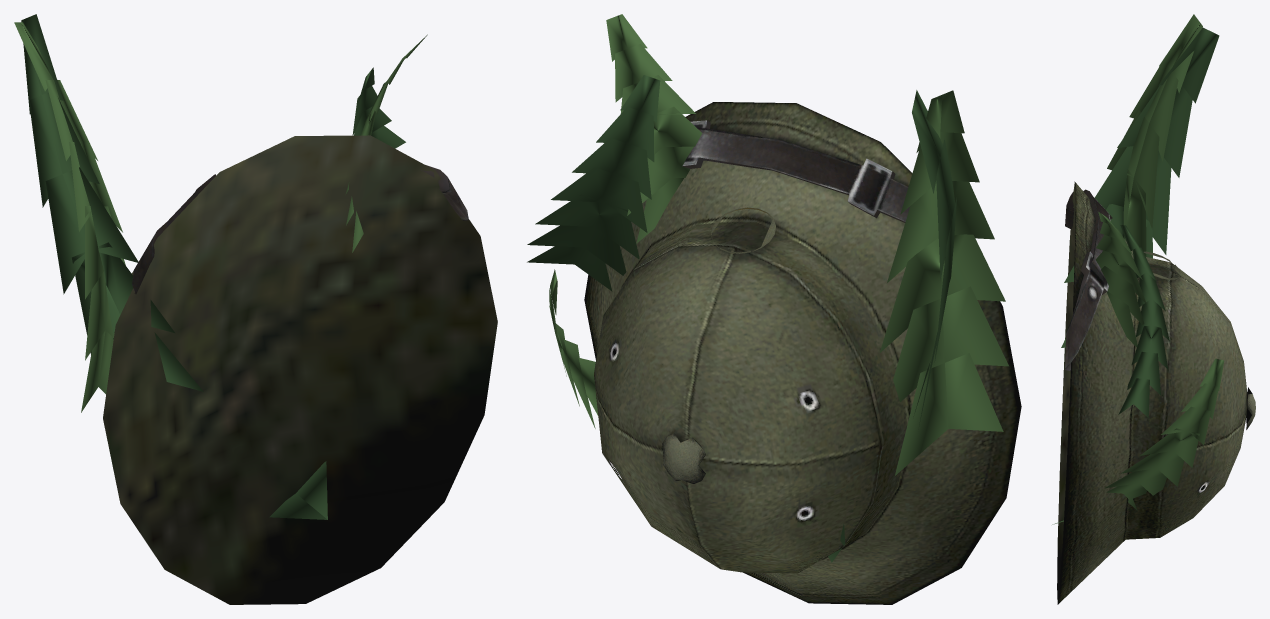
File: pith_foliage.glb
3 renders of one model, left to right at view 1: azimuth 30°, elevation 25°; view 2: azimuth 150°, elevation 25°; view 3: azimuth 270°, elevation 25°, orthographic. The views are drawn at different scales.
Visible parts, largest first — view 1: pith_foliage, pith_foliage_sprig_3, pith_foliage_sprig_2, pith_foliage_sprig_5, pith_foliage_sprig_4, pith_foliage_sprig_1; view 2: pith_foliage, pith_foliage_sprig_2, pith_foliage_sprig_4, pith_foliage_sprig_1, pith_foliage_sprig_3, pith_foliage_sprig_0; view 3: pith_foliage, pith_foliage_sprig_3, pith_foliage_sprig_2, pith_foliage_sprig_0, pith_foliage_sprig_4, pith_foliage_sprig_1.
Boxes of the visible parts, x1=… form: pith_foliage: x1=103, y1=135, x2=497, y2=604; pith_foliage_sprig_3: x1=21, y1=14, x2=203, y2=391; pith_foliage_sprig_2: x1=14, y1=22, x2=125, y2=412; pith_foliage_sprig_5: x1=269, y1=461, x2=327, y2=519; pith_foliage_sprig_4: x1=352, y1=67, x2=405, y2=148; pith_foliage_sprig_1: x1=345, y1=34, x2=427, y2=252; pith_foliage: x1=584, y1=102, x2=1021, y2=604; pith_foliage_sprig_2: x1=879, y1=90, x2=1008, y2=475; pith_foliage_sprig_4: x1=527, y1=75, x2=660, y2=291; pith_foliage_sprig_1: x1=606, y1=14, x2=702, y2=243; pith_foliage_sprig_3: x1=912, y1=90, x2=956, y2=429; pith_foliage_sprig_0: x1=549, y1=269, x2=598, y2=428; pith_foliage: x1=1057, y1=181, x2=1255, y2=604; pith_foliage_sprig_3: x1=1061, y1=27, x2=1219, y2=347; pith_foliage_sprig_2: x1=1107, y1=14, x2=1202, y2=256; pith_foliage_sprig_0: x1=1104, y1=358, x2=1224, y2=510; pith_foliage_sprig_4: x1=1118, y1=225, x2=1169, y2=417; pith_foliage_sprig_1: x1=1095, y1=211, x2=1146, y2=347.
Size of the model in its own units: 0.2907 by 0.3869 by 0.1482.
2 materials, 2 textured.
